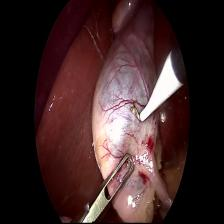Grasper: (76, 151, 136, 224)
Hook: (130, 50, 182, 134)
